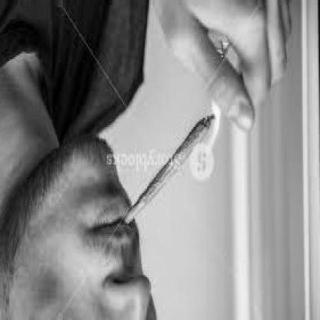Fire: (206, 91, 232, 153)
